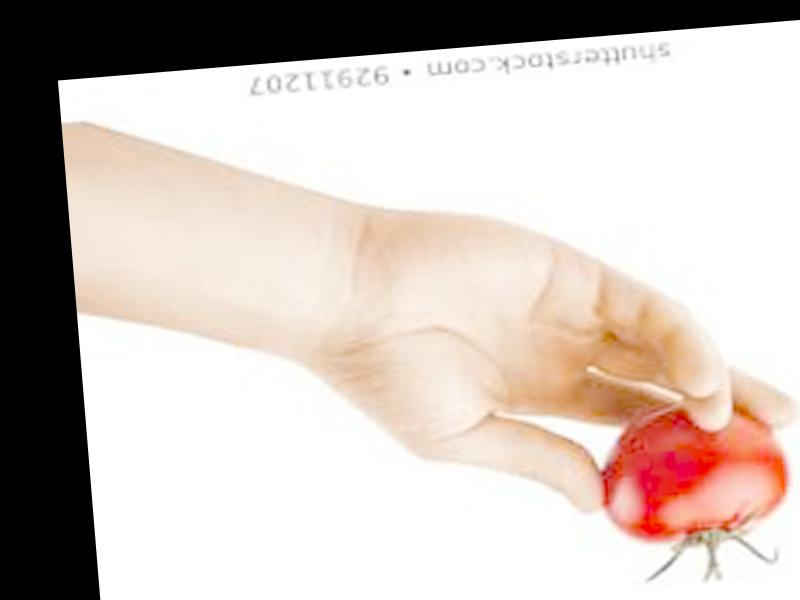Tomato: (593, 395, 795, 549)
